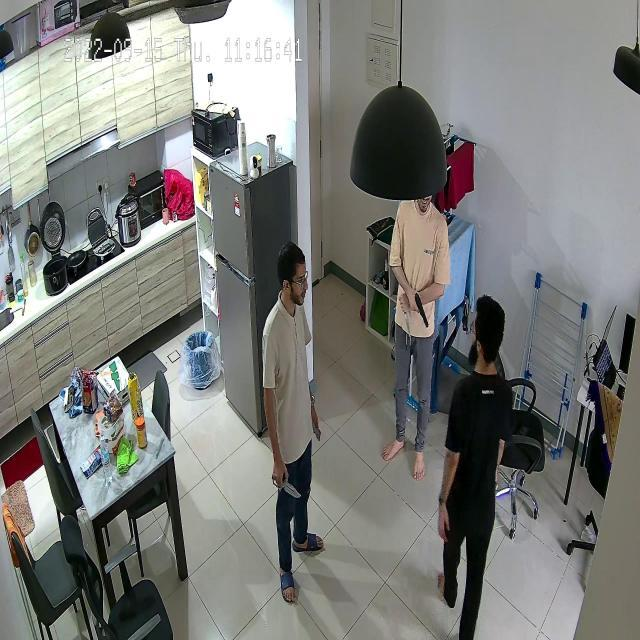Gun: (414, 287, 437, 341)
Knife: (268, 481, 317, 508)
